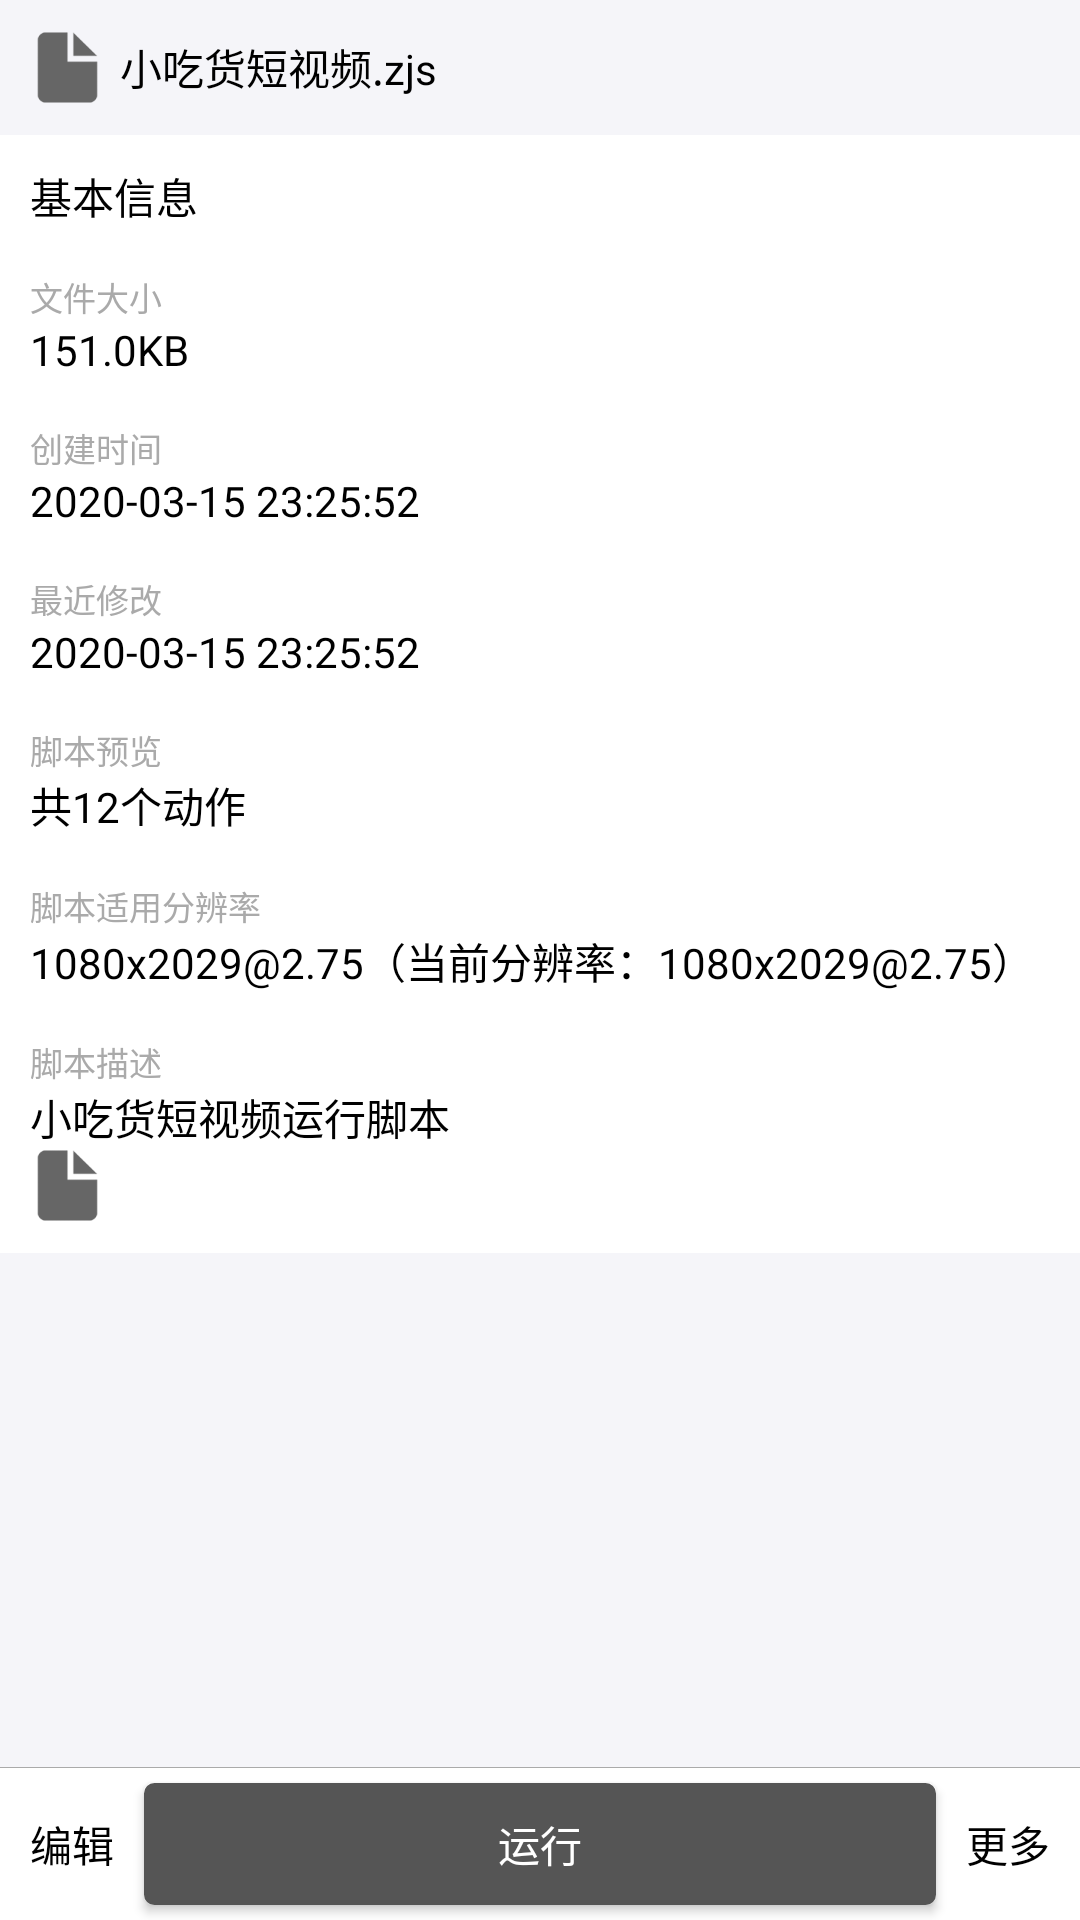

Screen size 1080×1920. Icon name, then its center in pixels as (x=x, y=y):
script file: (x=67, y=67), (x=67, y=1185)
